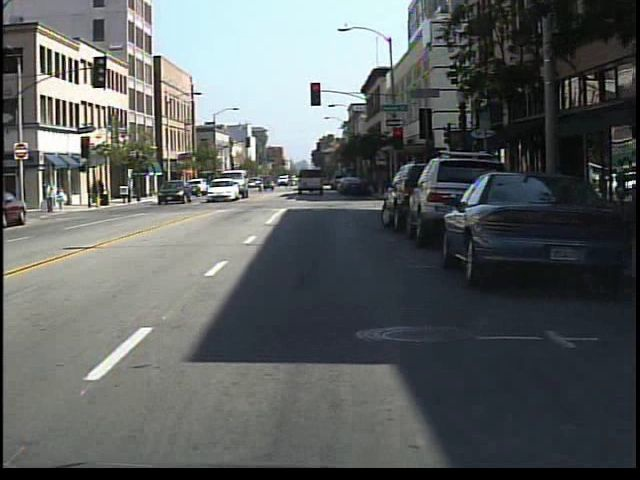person: (43, 180, 57, 216), (55, 183, 71, 212)
